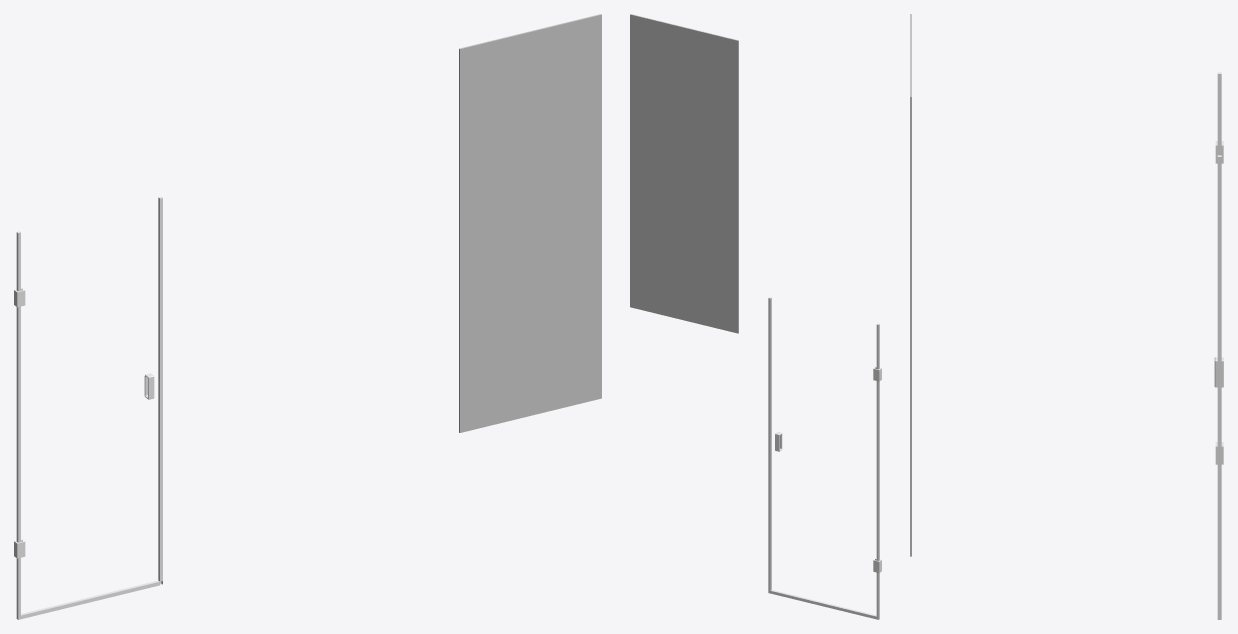
The model's file is ShowerDoor_43a71301.obj.
3 renders of one model, left to right at view 1: azimuth 30°, elevation 25°; view 2: azimuth 150°, elevation 25°; view 3: azimuth 270°, elevation 25°, orthographic. The views are drawn at different scales.
Parts seen in each view (by area): view 1: FP424:polySurface375_f84c86ab, ShowerdoorMesh_fc984ad2; view 2: FP424:polySurface375_f84c86ab, ShowerdoorMesh_fc984ad2; view 3: ShowerdoorMesh_fc984ad2, FP424:polySurface375_f84c86ab.
Boxes of the visible parts, bbox=[...] form: FP424:polySurface375_f84c86ab: bbox=[459, 14, 601, 432]; ShowerdoorMesh_fc984ad2: bbox=[14, 197, 162, 619]; FP424:polySurface375_f84c86ab: bbox=[630, 14, 738, 333]; ShowerdoorMesh_fc984ad2: bbox=[768, 297, 881, 619]; ShowerdoorMesh_fc984ad2: bbox=[1214, 72, 1223, 619]; FP424:polySurface375_f84c86ab: bbox=[910, 14, 911, 556].
Size of the model in its own units: 2.41 by 2.96 by 1.2.
